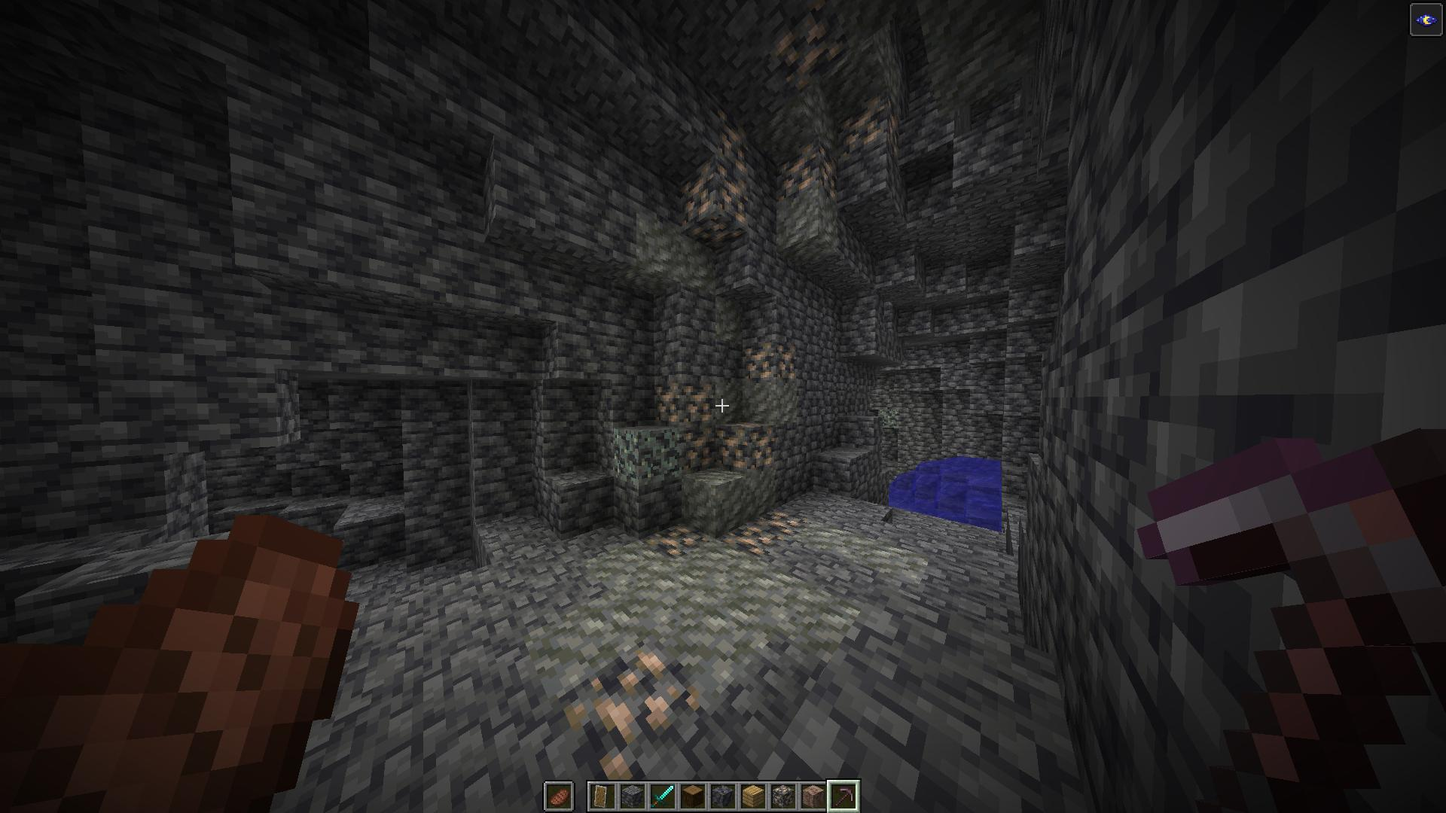iron ore: (548, 650, 709, 775), (776, 0, 847, 84), (683, 173, 749, 242), (830, 98, 902, 152), (772, 144, 844, 196), (710, 102, 753, 167), (719, 423, 774, 468), (656, 385, 715, 423), (648, 523, 703, 556), (724, 522, 772, 557), (744, 346, 794, 379), (681, 426, 719, 468), (765, 512, 808, 539)
